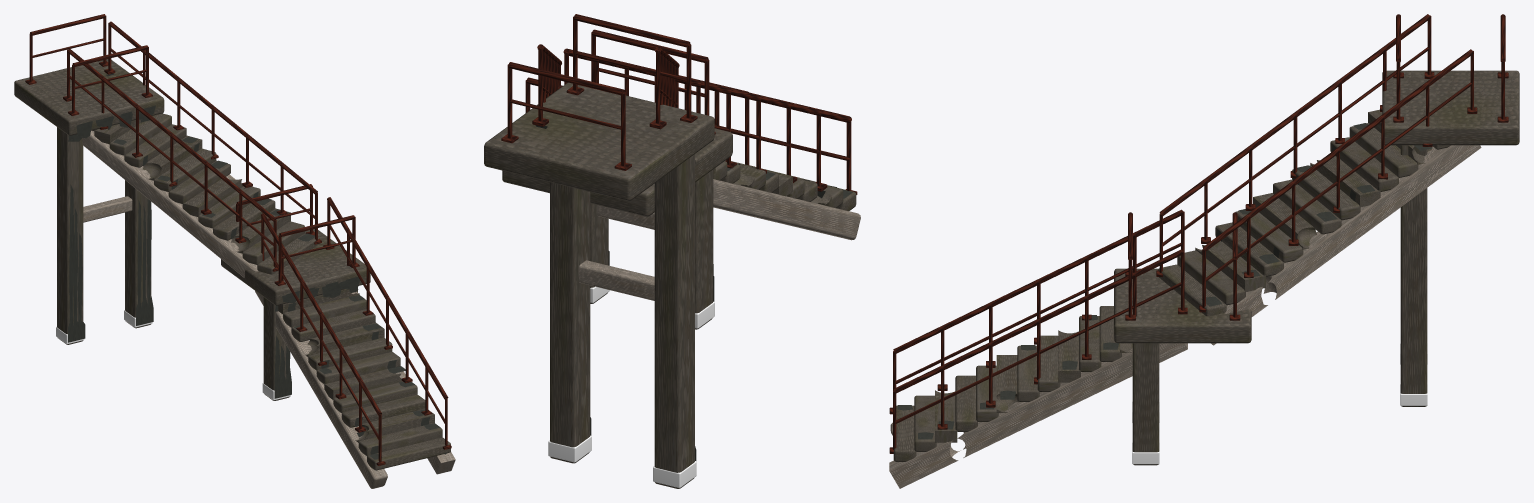
The model's file is stairs_v10.glb.
The picture shows the model from 3 angles, left to right: view 1: azimuth 30°, elevation 25°; view 2: azimuth 150°, elevation 25°; view 3: azimuth 270°, elevation 25°; orthographic projection. The views are drawn at different scales.
Parts seen in each view (by area): view 1: upper landing heavy landing slab, upper landing load-bearing concrete pier, middle switchback heavy landing slab, upper flight thick supported sloped side stringer.001, lower flight thick supported sloped side stringer.001, upper landing load-bearing concrete pier.001, middle switchback load-bearing concrete pier, lower flight eroded cast concrete tread 0, lower flight eroded cast concrete tread 1, lower flight eroded cast concrete tread 3, lower flight eroded cast concrete tread 10, lower flight eroded cast concrete tread 6 (+25 smaller); view 2: upper landing heavy landing slab, upper landing load-bearing concrete pier, upper landing load-bearing concrete pier.001, lower flight thick supported sloped side stringer.001, middle switchback heavy landing slab, middle switchback load-bearing concrete pier, upper landing transverse landing bracing, middle switchback load-bearing concrete pier.001, upper guardrail back, upper guardrail back.001, middle guardrail back, middle switchback transverse landing bracing (+8 smaller); view 3: upper landing heavy landing slab, lower flight thick supported sloped side stringer, middle switchback heavy landing slab, upper flight thick supported sloped side stringer, upper landing load-bearing concrete pier.001, middle switchback load-bearing concrete pier.001, upper flight eroded cast concrete tread 1, upper flight eroded cast concrete tread 9, upper flight eroded cast concrete tread 10, upper flight eroded cast concrete tread 6, upper flight eroded cast concrete tread 5, upper flight eroded cast concrete tread 7 (+20 smaller).
Part boxes in pixels (x1=…): upper landing heavy landing slab: x1=14, y1=59, x2=164, y2=135; upper landing load-bearing concrete pier: x1=57, y1=127, x2=83, y2=344; middle switchback heavy landing slab: x1=221, y1=229, x2=370, y2=305; upper flight thick supported sloped side stringer.001: x1=82, y1=130, x2=258, y2=277; lower flight thick supported sloped side stringer.001: x1=255, y1=291, x2=387, y2=488; upper landing load-bearing concrete pier.001: x1=125, y1=180, x2=151, y2=328; middle switchback load-bearing concrete pier: x1=263, y1=297, x2=289, y2=400; lower flight eroded cast concrete tread 0: x1=367, y1=437, x2=450, y2=470; lower flight eroded cast concrete tread 1: x1=358, y1=423, x2=442, y2=455; lower flight eroded cast concrete tread 3: x1=341, y1=394, x2=425, y2=427; lower flight eroded cast concrete tread 10: x1=283, y1=294, x2=366, y2=327; lower flight eroded cast concrete tread 6: x1=316, y1=352, x2=400, y2=383; upper landing heavy landing slab: x1=484, y1=82, x2=714, y2=200; upper landing load-bearing concrete pier: x1=654, y1=154, x2=694, y2=488; upper landing load-bearing concrete pier.001: x1=550, y1=182, x2=590, y2=463; lower flight thick supported sloped side stringer.001: x1=713, y1=179, x2=860, y2=240; middle switchback heavy landing slab: x1=502, y1=128, x2=732, y2=216; middle switchback load-bearing concrete pier: x1=695, y1=169, x2=713, y2=329; upper landing transverse landing bracing: x1=579, y1=260, x2=654, y2=300; middle switchback load-bearing concrete pier.001: x1=590, y1=203, x2=608, y2=303; upper guardrail back: x1=574, y1=14, x2=690, y2=47; upper guardrail back.001: x1=508, y1=62, x2=624, y2=95; middle guardrail back: x1=592, y1=29, x2=708, y2=62; middle switchback transverse landing bracing: x1=597, y1=205, x2=654, y2=229; upper landing heavy landing slab: x1=1382, y1=70, x2=1519, y2=145; lower flight thick supported sloped side stringer: x1=889, y1=343, x2=1187, y2=488; middle switchback heavy landing slab: x1=1114, y1=268, x2=1251, y2=343; upper flight thick supported sloped side stringer: x1=1211, y1=145, x2=1481, y2=345; upper landing load-bearing concrete pier.001: x1=1400, y1=145, x2=1427, y2=406; middle switchback load-bearing concrete pier.001: x1=1132, y1=343, x2=1159, y2=465; upper flight eroded cast concrete tread 1: x1=1177, y1=250, x2=1245, y2=305; upper flight eroded cast concrete tread 9: x1=1330, y1=137, x2=1398, y2=191; upper flight eroded cast concrete tread 10: x1=1349, y1=123, x2=1418, y2=177; upper flight eroded cast concrete tread 6: x1=1273, y1=179, x2=1341, y2=234; upper flight eroded cast concrete tread 5: x1=1253, y1=193, x2=1316, y2=249; upper flight eroded cast concrete tread 7: x1=1292, y1=165, x2=1360, y2=220.
Size of the model in its own units: 4.09 by 6.17 by 9.4.
5 materials, 4 textured.
